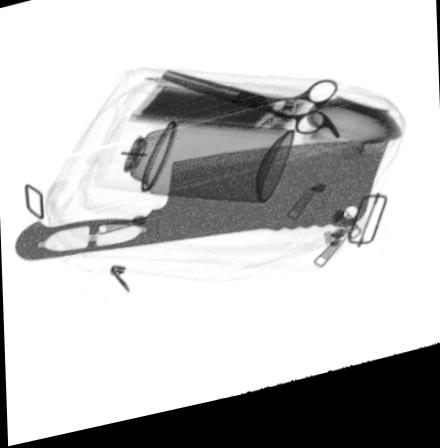Knife: (16, 157, 388, 262)
Powerbank: (128, 89, 305, 149)
Scissors: (163, 77, 341, 155)
Sprayer: (93, 123, 295, 215)
